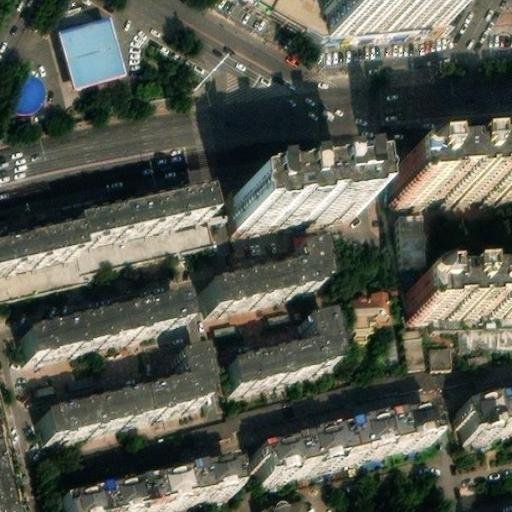building: (41, 352, 215, 441), (252, 412, 439, 481), (23, 293, 184, 359), (227, 305, 349, 385), (58, 461, 241, 512), (202, 246, 328, 311), (233, 166, 367, 225), (74, 189, 213, 245), (61, 10, 127, 81), (409, 278, 512, 321), (406, 146, 502, 191), (326, 0, 416, 43), (0, 416, 22, 512), (463, 399, 512, 442), (349, 294, 392, 334), (408, 196, 438, 251), (9, 67, 45, 110), (400, 326, 424, 370), (274, 496, 323, 512), (499, 145, 512, 185), (430, 342, 454, 363)
